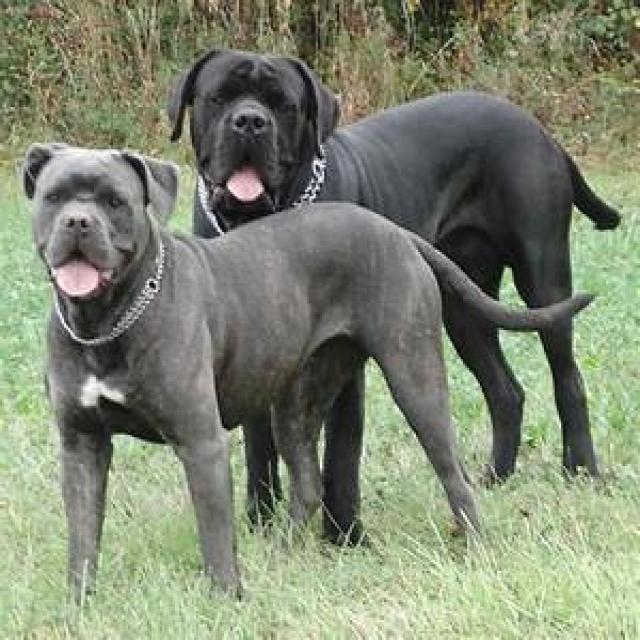KOPEK: (23, 151, 502, 607), (200, 59, 598, 528)
